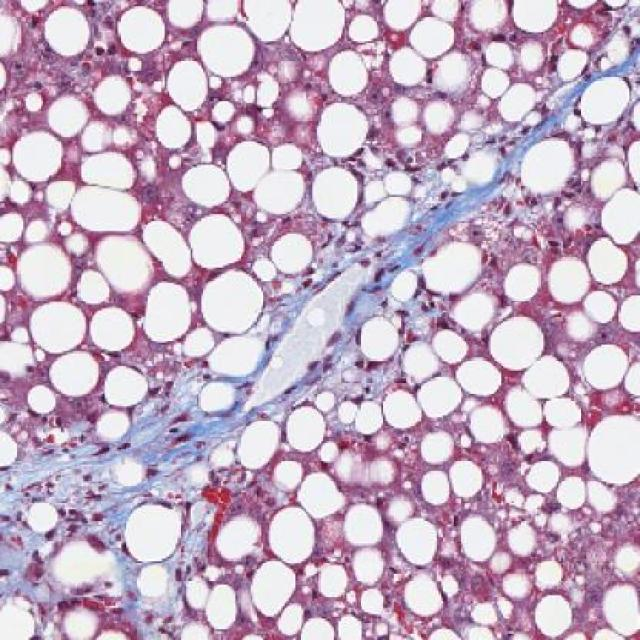fibrosis: (35, 404, 237, 562), (254, 244, 431, 406)
